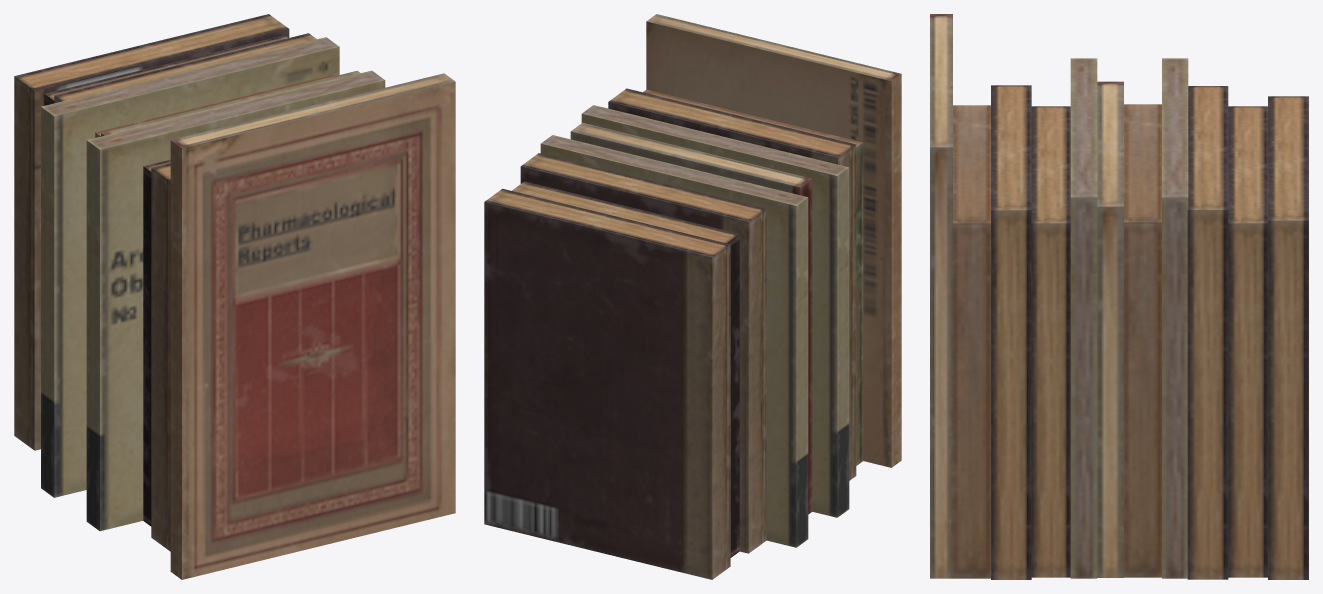
File: HH_Stacked_Books_01.fbx
3 views of the same model, side by side, from view 1: azimuth 30°, elevation 25°; view 2: azimuth 150°, elevation 25°; view 3: azimuth 270°, elevation 25° (orthographic). The views are drawn at different scales.
Visible parts, largest first — view 1: HH_Stacked_Books_01; view 2: HH_Stacked_Books_01; view 3: HH_Stacked_Books_01.
Boxes of the visible parts, x1,y1,x2,y2 form: HH_Stacked_Books_01: (14,14,455,579); HH_Stacked_Books_01: (484,14,901,579); HH_Stacked_Books_01: (930,14,1308,579).
Size of the model in its own units: 21.06 by 30.13 by 23.98.
